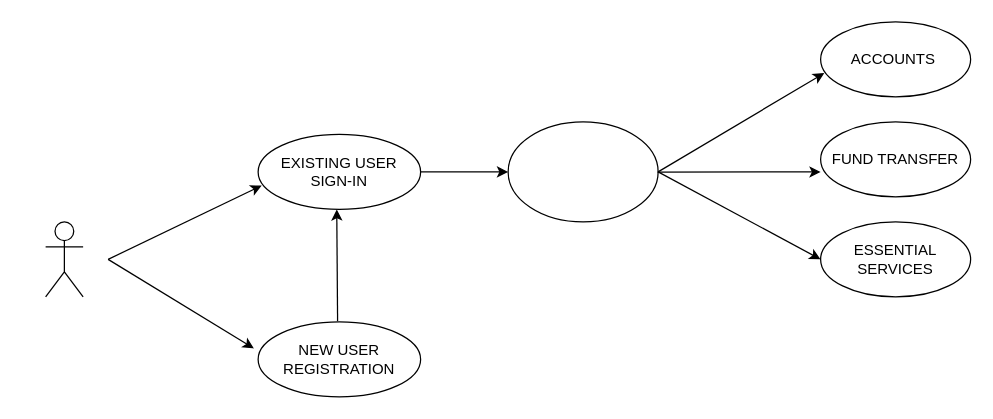
Image size: 993x419. Some labels were removed from this diagram. Each missing label, with the centre of its shape:
"CUSTOMER" goes at (63,259).
"HOMEPAGE" goes at (582,171).
